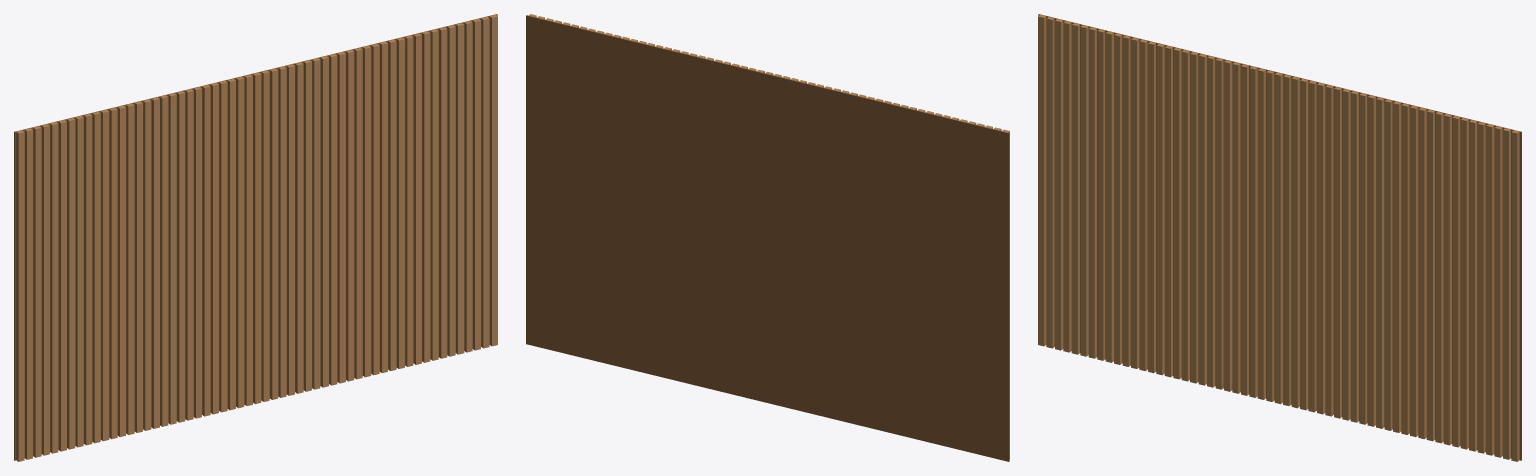
The model's file is painel_ripado_400x260.obj.
The picture shows the model from 3 angles, left to right: view 1: azimuth 30°, elevation 25°; view 2: azimuth 150°, elevation 25°; view 3: azimuth 330°, elevation 25°; orthographic projection.
Parts seen in each view (by area): view 1: painel_ripado_400x260; view 2: painel_ripado_400x260; view 3: painel_ripado_400x260.
Boxes of the visible parts, x1,y1,x2,y2 form: painel_ripado_400x260: (14, 14, 497, 461); painel_ripado_400x260: (526, 14, 1009, 461); painel_ripado_400x260: (1038, 14, 1521, 461).
Size of the model in its own units: 4 by 2.6 by 0.04.
